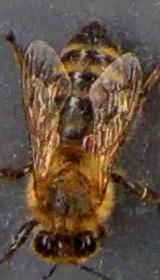varroa_mite: (82, 130, 105, 154)
